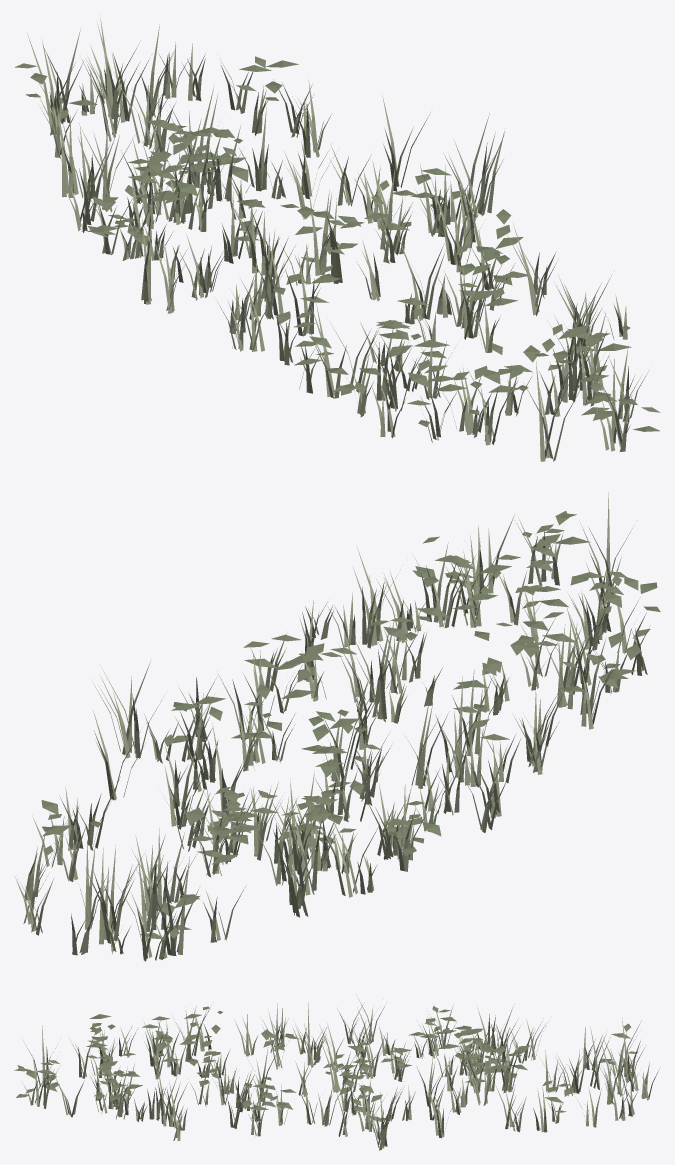
Rendered from AE_Encroachment_21.fbx.
3 views of the same model, one above another, from view 1: azimuth 30°, elevation 25°; view 2: azimuth 150°, elevation 25°; view 3: azimuth 270°, elevation 25° (orthographic). The views are drawn at different scales.
Visible parts, largest first — view 1: AE_Encroachment_21_LOD0; view 2: AE_Encroachment_21_LOD0; view 3: AE_Encroachment_21_LOD0.
Part boxes in pixels (x1,y1,x2,y2): AE_Encroachment_21_LOD0: (15, 15, 660, 461); AE_Encroachment_21_LOD0: (14, 492, 660, 961); AE_Encroachment_21_LOD0: (14, 994, 659, 1150).
Size of what is drawn, in the model's own units: 444 by 103 by 1026.
